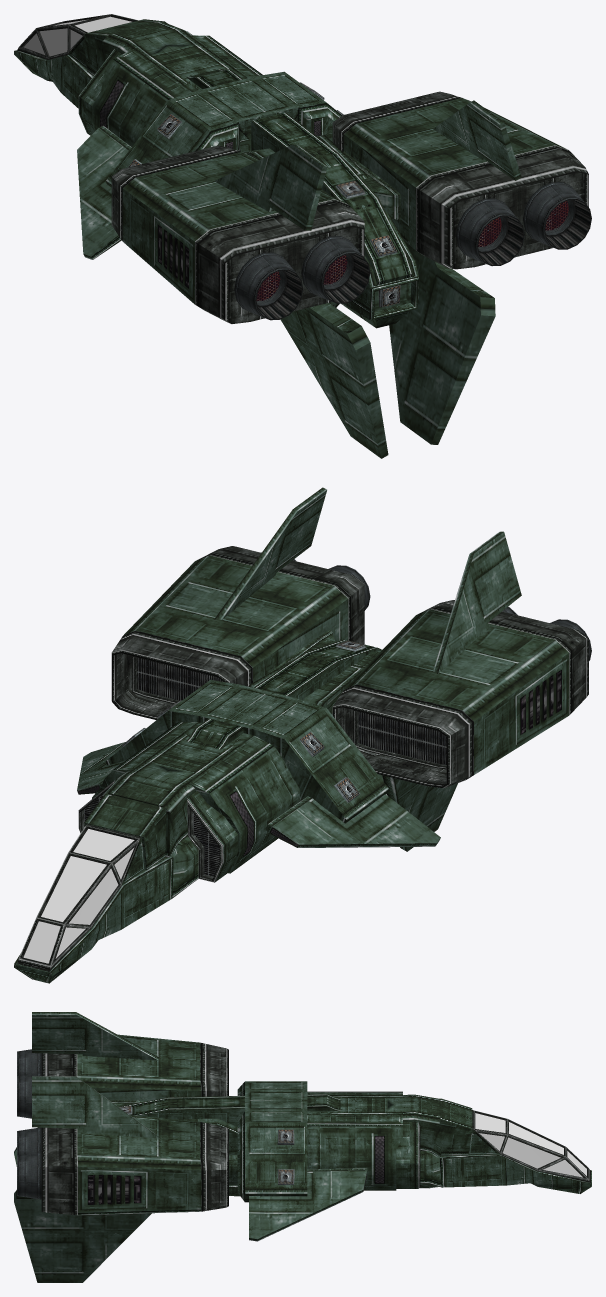
The model's file is SCF-500 Coyote I.fbx.
The picture shows the model from 3 angles, top to bottom: view 1: azimuth 30°, elevation 25°; view 2: azimuth 150°, elevation 25°; view 3: azimuth 270°, elevation 25°; orthographic projection. The views are drawn at different scales.
Parts seen in each view (by area): view 1: Coyote-Hull1, Coyote-Hull2, Coyote-Nozzles, Coyote-Grills, Coyote-Hardpoints, Coyote-Glass; view 2: Coyote-Hull1, Coyote-Hull2, Coyote-Intake, Coyote-Glass, Coyote-Hardpoints, Coyote-Nozzles, Coyote-Metal; view 3: Coyote-Hull1, Coyote-Hull2, Coyote-Nozzles, Coyote-Glass, Coyote-Hardpoints.
Part boxes in pixels (box(x1,y1,x2,y2)): Coyote-Hull1: box(14, 19, 567, 458); Coyote-Hull2: box(17, 14, 588, 323); Coyote-Nozzles: box(234, 182, 591, 320); Coyote-Grills: box(256, 201, 568, 300); Coyote-Hardpoints: box(128, 82, 400, 307); Coyote-Glass: box(24, 16, 131, 56); Coyote-Hull1: box(14, 487, 569, 983); Coyote-Hull2: box(17, 546, 588, 971); Coyote-Intake: box(84, 658, 446, 876); Coyote-Glass: box(23, 829, 134, 963); Coyote-Hardpoints: box(122, 640, 365, 802); Coyote-Nozzles: box(261, 552, 591, 660); Coyote-Metal: box(22, 827, 136, 960); Coyote-Hull1: box(14, 1012, 591, 1282); Coyote-Hull2: box(41, 1042, 590, 1215); Coyote-Nozzles: box(17, 1049, 41, 1199); Coyote-Glass: box(475, 1113, 586, 1177); Coyote-Hardpoints: box(120, 1106, 294, 1184).
Size of the model in its own units: 114 by 90.58 by 208.
9 materials, 9 textured.
